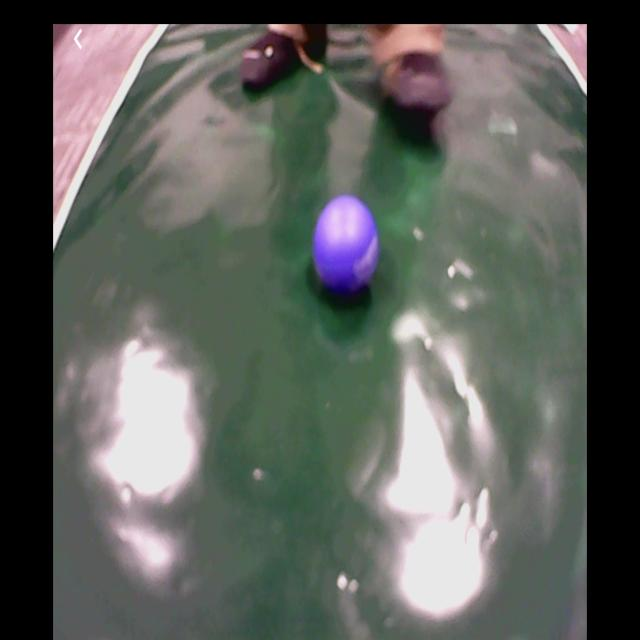ball: (318, 199, 380, 291)
